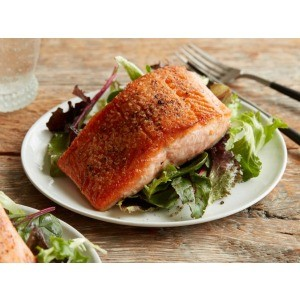salmon_brain food: (61, 73, 234, 198)
